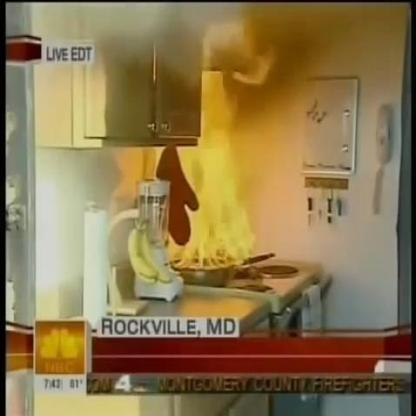fire: (165, 26, 270, 268)
